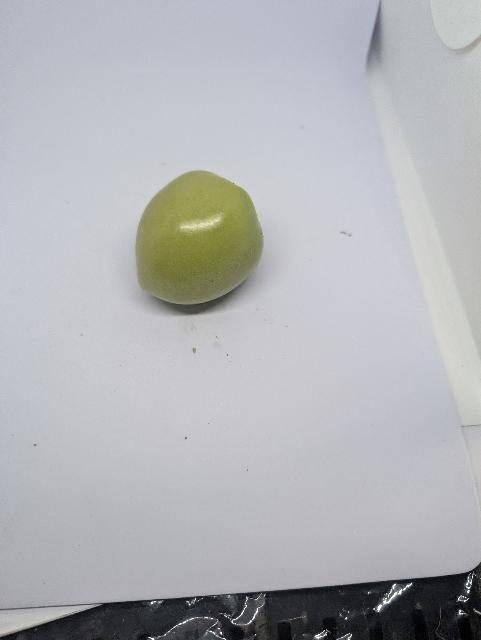green: (134, 167, 267, 307)
